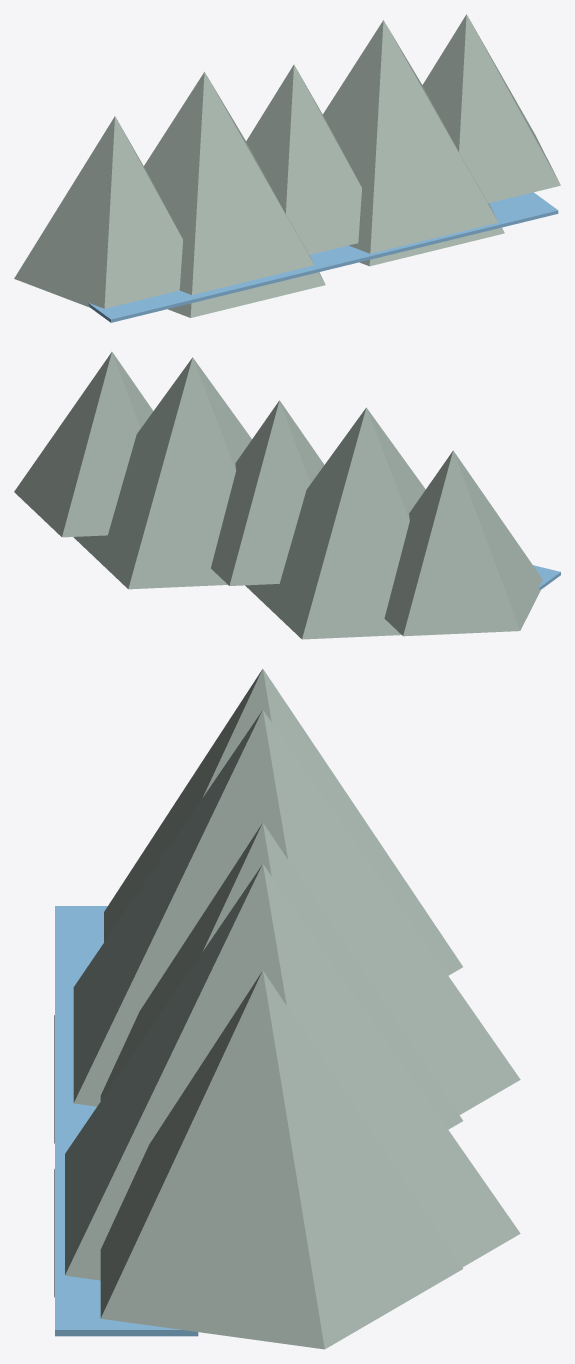
Rendered from mountain-lake-slice-aDcP6yJi.glb.
3 renders of one model, top to bottom at view 1: azimuth 30°, elevation 25°; view 2: azimuth 150°, elevation 25°; view 3: azimuth 270°, elevation 25°, orthographic. The views are drawn at different scales.
Visible parts, largest first — view 1: Mountain_3, Mountain_1, Mountain_0, Mountain_4, Mountain_2, Lake_Strip; view 2: Mountain_1, Mountain_3, Mountain_0, Mountain_4, Mountain_2; view 3: Mountain_4, Mountain_1, Mountain_3, Mountain_0, Mountain_2, Lake_Strip.
Part boxes in pixels (x1,y1,x2,y2): Mountain_3: [323, 20, 504, 266]; Mountain_1: [144, 72, 325, 317]; Mountain_0: [14, 116, 182, 308]; Mountain_4: [422, 14, 560, 203]; Mountain_2: [246, 64, 361, 254]; Lake_Strip: [88, 192, 558, 322]; Mountain_1: [245, 407, 425, 639]; Mountain_3: [73, 357, 251, 589]; Mountain_0: [384, 450, 542, 636]; Mountain_4: [14, 352, 153, 537]; Mountain_2: [211, 400, 324, 585]; Mountain_4: [100, 970, 462, 1349]; Mountain_1: [54, 710, 520, 1143]; Mountain_3: [54, 864, 520, 1297]; Mountain_0: [104, 669, 462, 975]; Mountain_2: [100, 822, 462, 1129]; Lake_Strip: [55, 906, 198, 1336].
Size of the model in its own units: 16.33 by 5.94 by 6.51.
